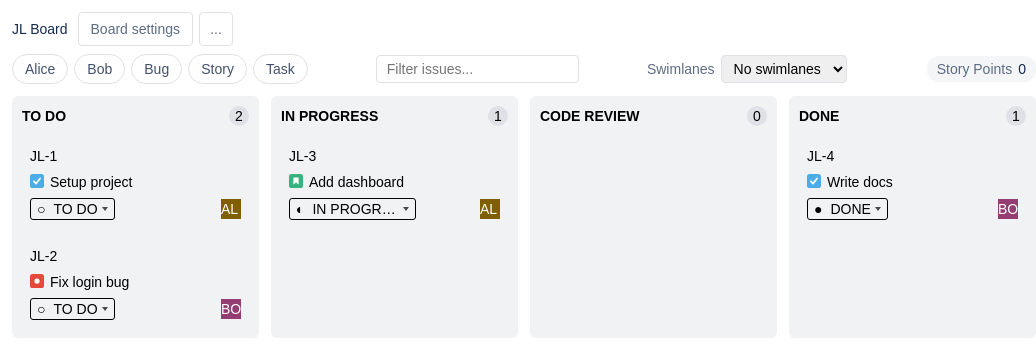
Test case: BoardPage — JL-239 text filtering › filters issues by summary/key with the debounced text input
This screenshot has width=1036, height=355.
Search by summary text.
Type "login" into the search field named "Filter issues by text".
click(477, 69); type("login")  # box [376,55,579,83]
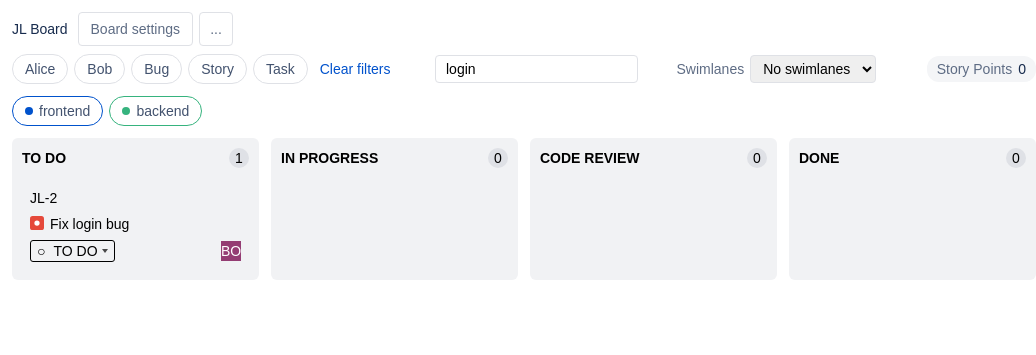
Expected: the text "Fix login bug" is shown, [50,214,129,234]
Now the text "Setup project" is gone
Search by issue key.
Replace the text in the search field named "Filter issues by text" with "JL-3" at (536, 69), box [435,55,638,83]
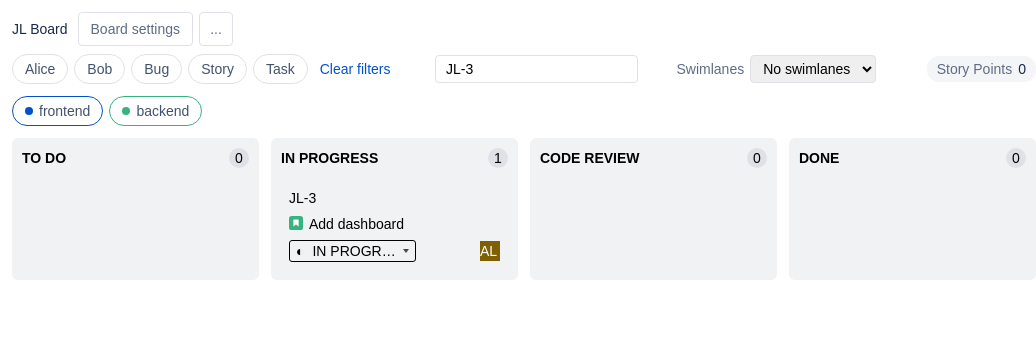
Expected: the text "Setup project" is not shown
Now the text "Add dashboard" is shown, box [309,214,404,234]
Now the text "Fix login bug" is gone
